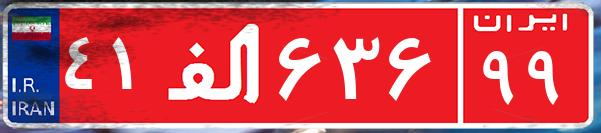1: (110, 28, 158, 105)
3: (330, 28, 385, 110)
4: (57, 26, 110, 107)
6: (385, 28, 445, 110), (273, 28, 330, 110)
9: (475, 38, 525, 113), (525, 38, 570, 115)
الف: (158, 15, 273, 115)
